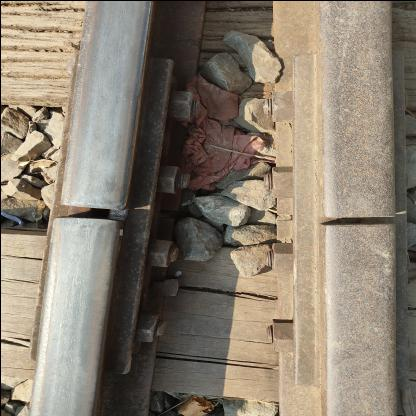Non Defective 2: (164, 0, 258, 104)
Non Defective 3: (46, 177, 368, 306), (24, 68, 370, 167)
